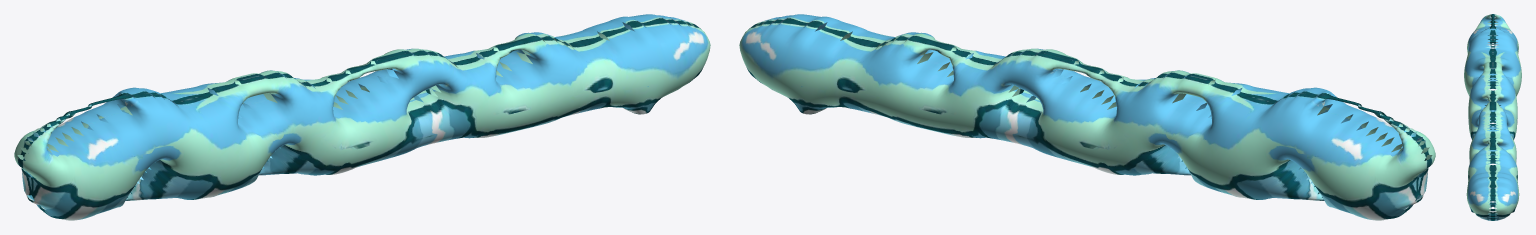
Rendered from frozen_ice_lip.glb.
The picture shows the model from 3 angles, left to right: view 1: azimuth 30°, elevation 25°; view 2: azimuth 150°, elevation 25°; view 3: azimuth 270°, elevation 25°; orthographic projection. The views are drawn at different scales.
Visible parts, largest first — view 1: frozen_ice_lip; view 2: frozen_ice_lip; view 3: frozen_ice_lip.
Boxes of the visible parts, x1,y1,x2,y2 form: frozen_ice_lip: (14, 14, 710, 220); frozen_ice_lip: (739, 14, 1435, 220); frozen_ice_lip: (1464, 14, 1521, 220).
Size of the model in its own units: 0.9887 by 0.1718 by 0.1447.
Materials: 1 (1 with a texture image).
